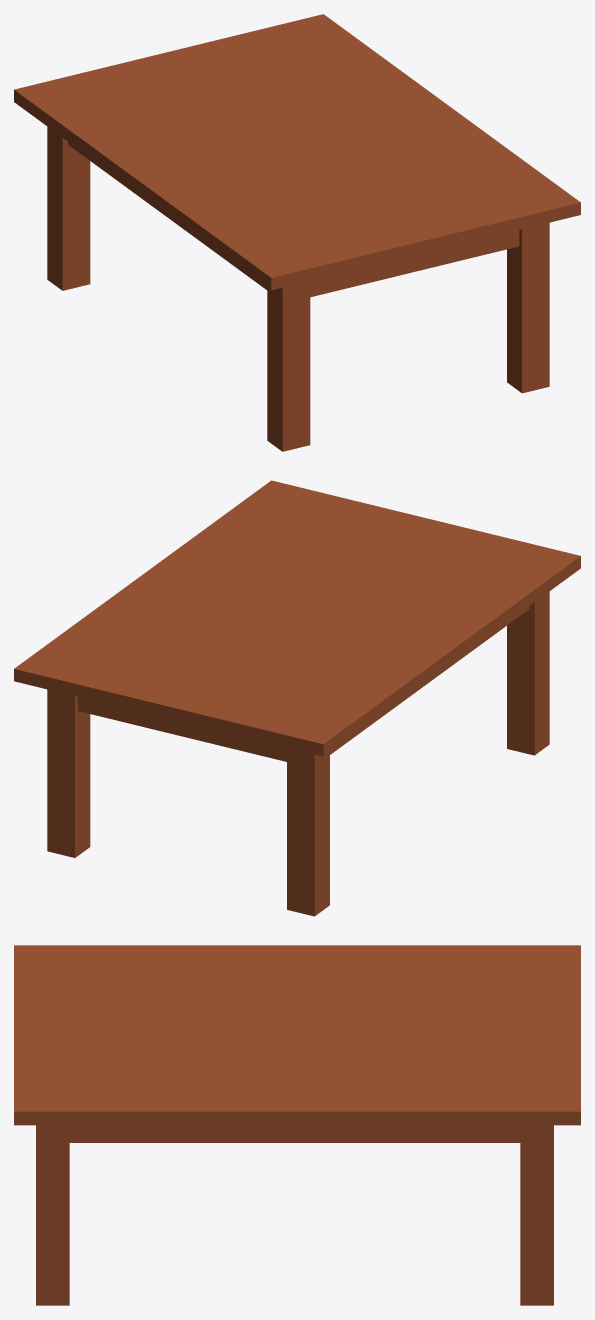
File: Prop_Furniture_Fantasy_Dungeon_Table_Wooden_Medium_01.FBX
The picture shows the model from 3 angles, top to bottom: view 1: azimuth 30°, elevation 25°; view 2: azimuth 150°, elevation 25°; view 3: azimuth 270°, elevation 25°; orthographic projection. The views are drawn at different scales.
Parts seen in each view (by area): view 1: Prop_Furniture_Fantasy_Dungeon_Table_Wooden_Medium_01; view 2: Prop_Furniture_Fantasy_Dungeon_Table_Wooden_Medium_01; view 3: Prop_Furniture_Fantasy_Dungeon_Table_Wooden_Medium_01.
Part boxes in pixels (x1=…): Prop_Furniture_Fantasy_Dungeon_Table_Wooden_Medium_01: x1=14, y1=14, x2=580, y2=451; Prop_Furniture_Fantasy_Dungeon_Table_Wooden_Medium_01: x1=14, y1=480, x2=580, y2=916; Prop_Furniture_Fantasy_Dungeon_Table_Wooden_Medium_01: x1=14, y1=945, x2=580, y2=1305.
Bounding box in the file's own units: 1524 × 876 × 2195.
